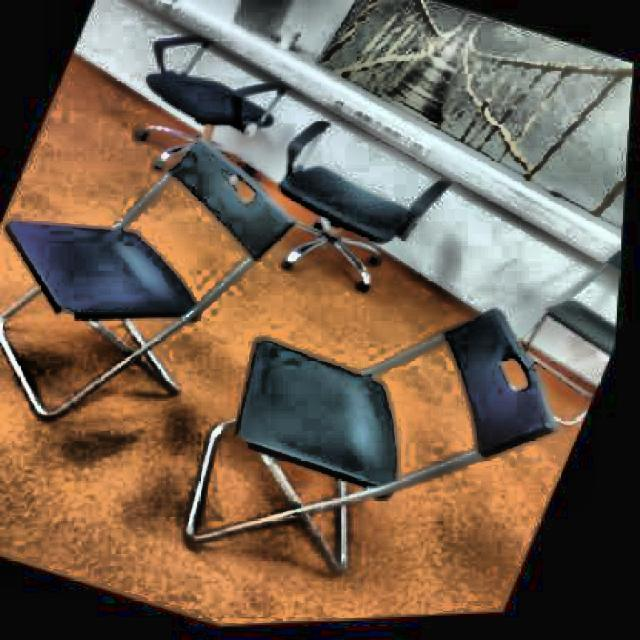cadeira: (157, 215, 620, 631), (0, 78, 309, 477), (228, 91, 495, 334), (86, 0, 331, 218), (494, 211, 626, 443)
